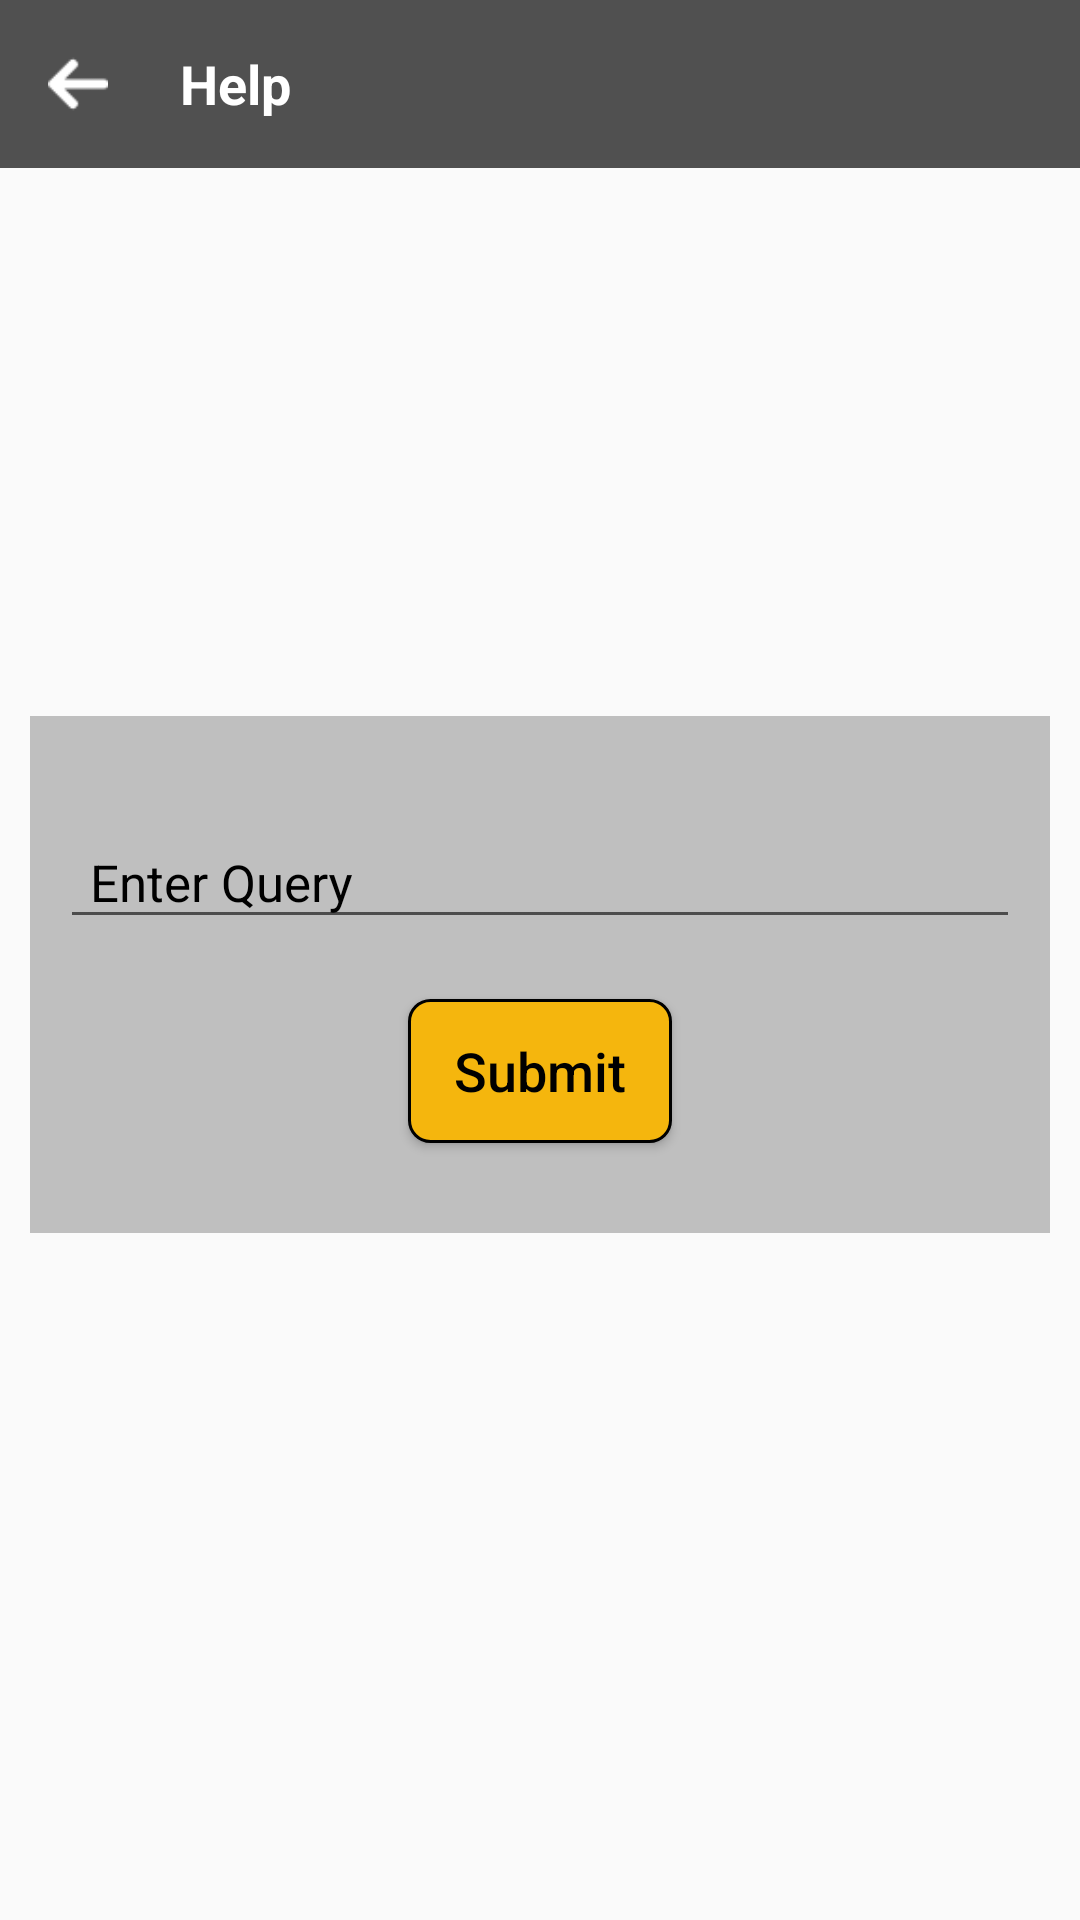

Named icons in this screenshot (1080×1920) and their bounding boxes, Rect(x1, y1, x2, y2):
back: Rect(48, 59, 108, 109)
